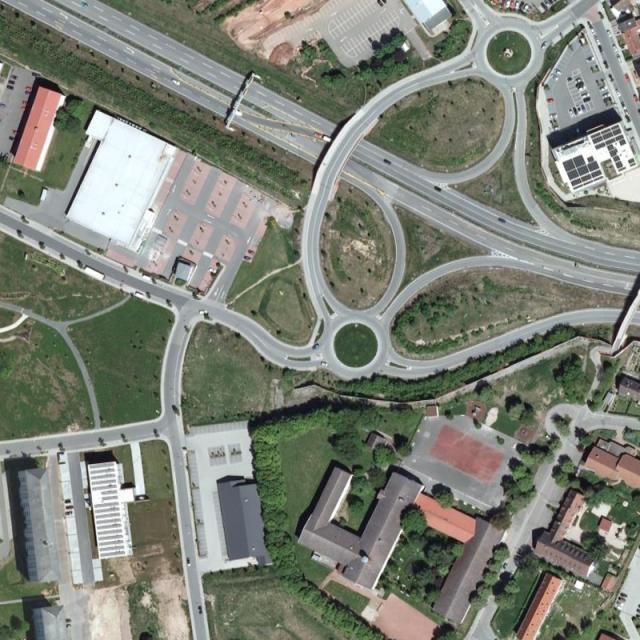vehicle: (171, 78, 182, 86), (540, 2, 549, 11), (522, 4, 530, 14), (382, 159, 393, 166), (518, 2, 526, 11), (544, 1, 553, 9), (553, 68, 562, 76), (550, 74, 559, 82), (599, 86, 608, 94), (10, 74, 20, 81), (507, 571, 514, 581), (243, 255, 253, 262), (8, 137, 19, 143), (618, 592, 629, 598), (21, 106, 30, 113), (498, 217, 507, 224), (574, 78, 583, 85), (616, 54, 623, 63), (575, 82, 585, 88), (434, 186, 442, 193), (576, 106, 583, 114), (606, 30, 613, 38), (7, 80, 16, 86), (13, 130, 22, 136), (22, 101, 31, 107), (26, 86, 35, 92), (586, 57, 595, 63), (581, 105, 587, 114), (581, 93, 590, 99), (616, 89, 622, 98), (621, 102, 627, 111), (633, 94, 639, 103), (313, 343, 320, 350), (514, 2, 520, 10), (6, 85, 14, 91), (26, 91, 34, 97), (598, 45, 604, 53), (569, 110, 575, 118), (578, 86, 586, 92), (590, 28, 596, 36), (542, 42, 548, 50), (625, 74, 631, 82), (612, 45, 618, 53), (510, 1, 515, 10), (186, 558, 191, 567), (573, 107, 578, 116), (582, 98, 591, 103), (602, 94, 611, 99), (377, 1, 384, 7), (81, 2, 88, 8), (506, 1, 511, 9), (547, 1, 555, 6), (614, 605, 622, 610), (616, 601, 624, 606), (618, 597, 626, 602), (551, 126, 559, 131), (199, 310, 208, 314), (64, 499, 71, 504), (321, 362, 328, 367), (198, 606, 202, 614), (65, 512, 73, 516), (66, 506, 74, 510), (546, 99, 554, 103), (550, 114, 558, 118), (381, 1, 388, 5), (502, 1, 506, 7), (493, 1, 498, 4), (553, 1, 558, 3), (1, 119, 2, 123)
